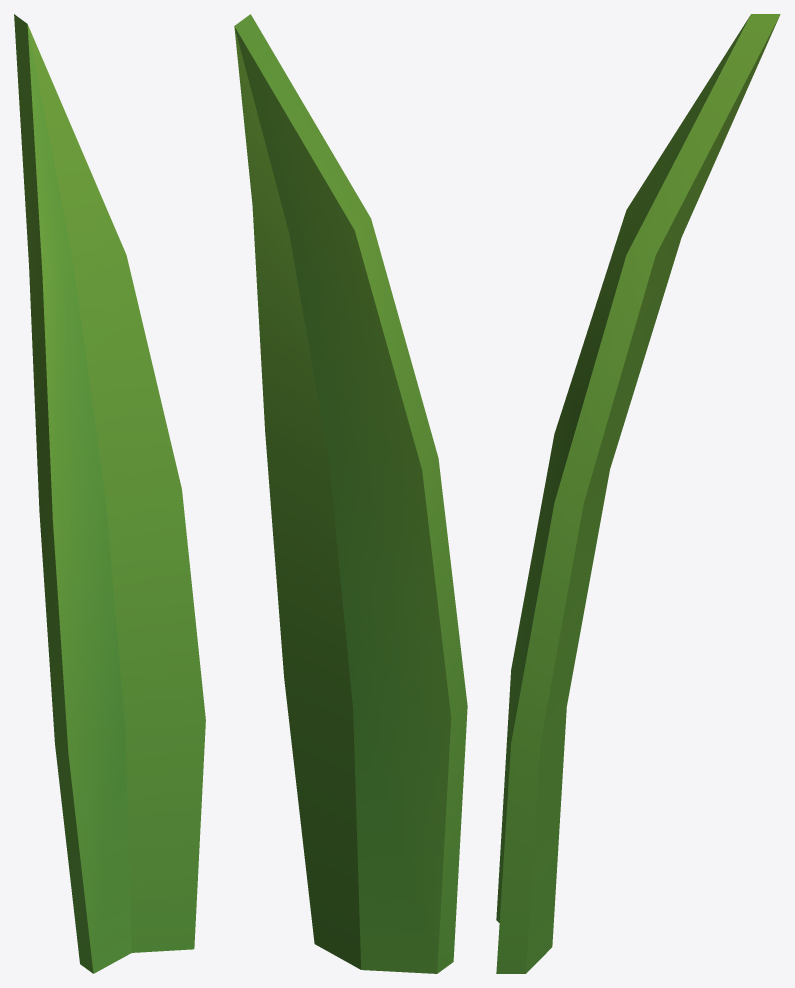
File: grass-2-a.glb
3 renders of one model, left to right at view 1: azimuth 30°, elevation 25°; view 2: azimuth 150°, elevation 25°; view 3: azimuth 270°, elevation 25°, orthographic. The views are drawn at different scales.
Visible parts, largest first — view 1: Grass_2_A_Color1; view 2: Grass_2_A_Color1; view 3: Grass_2_A_Color1.
Part boxes in pixels (left/top/right/bottom): Grass_2_A_Color1: left=14, top=14, right=205, bottom=973; Grass_2_A_Color1: left=234, top=14, right=467, bottom=973; Grass_2_A_Color1: left=496, top=14, right=780, bottom=973.
Bounding box in the file's own units: 0.155 × 0.9188 × 0.2537.
Materials: 1 (1 with a texture image).
